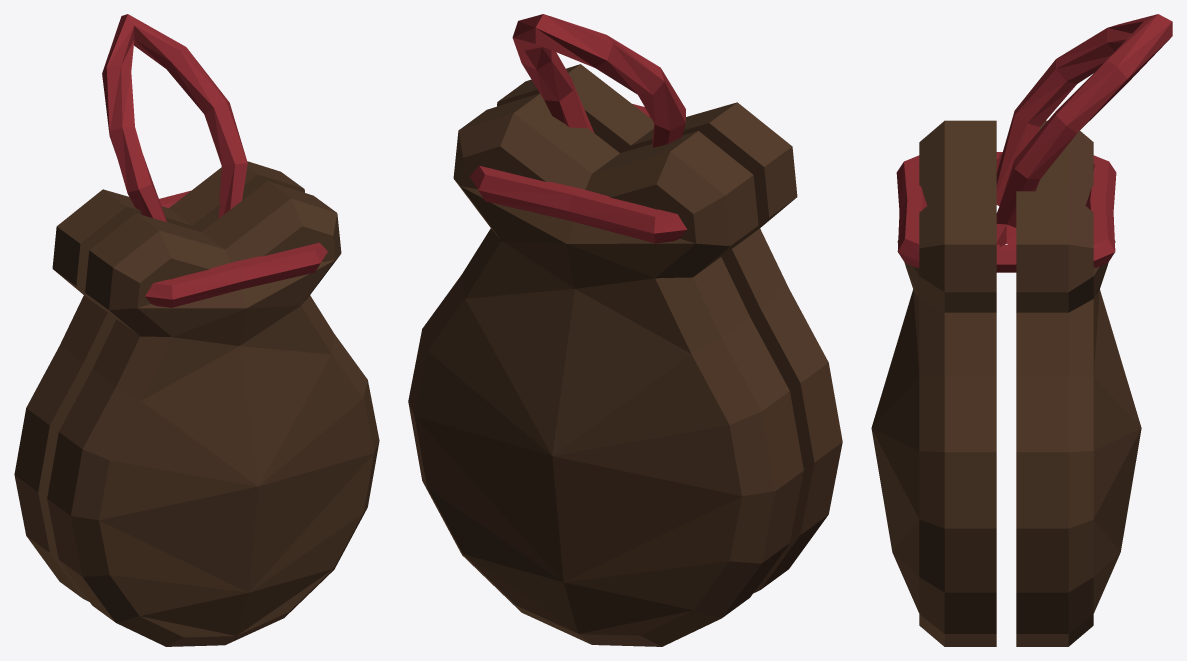
Rendered from castanets-50fc2f.glb.
The picture shows the model from 3 angles, left to right: view 1: azimuth 30°, elevation 25°; view 2: azimuth 150°, elevation 25°; view 3: azimuth 270°, elevation 25°; orthographic projection. The views are drawn at different scales.
Parts seen in each view (by area): view 1: shell-front-mesh, shell-back-mesh, castanets-static; view 2: shell-back-mesh, shell-front-mesh, castanets-static; view 3: shell-front-mesh, shell-back-mesh, castanets-static.
Boxes of the visible parts, <box> form: shell-front-mesh: <box>47,181,379,646</box>; shell-back-mesh: <box>14,161,304,601</box>; castanets-static: <box>102,14,247,221</box>; shell-back-mesh: <box>408,93,803,646</box>; shell-front-mesh: <box>497,64,842,593</box>; castanets-static: <box>512,14,685,147</box>; shell-front-mesh: <box>871,120,996,646</box>; shell-back-mesh: <box>1016,120,1141,646</box>; castanets-static: <box>996,14,1172,272</box>.
Size of the model in its own units: 0.06 by 0.104 by 0.0461.
